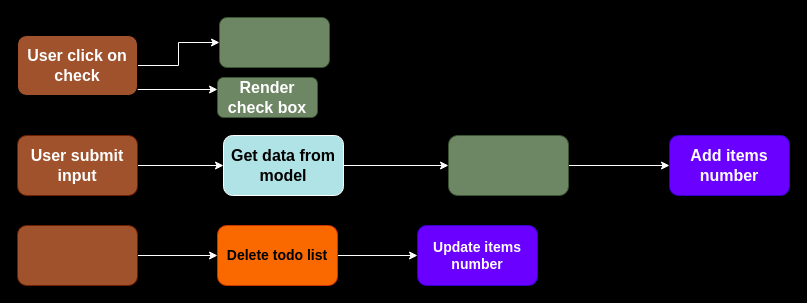
The diagram is 807 pixels wide and 303 high, and some of its shapes have lost their labels. Each missing label, with the centre of its shape:
"Render cross on text" belongs at pixel 274 42.
"Render new list" belongs at pixel 508 165.
"User click on X" belongs at pixel 77 255.
